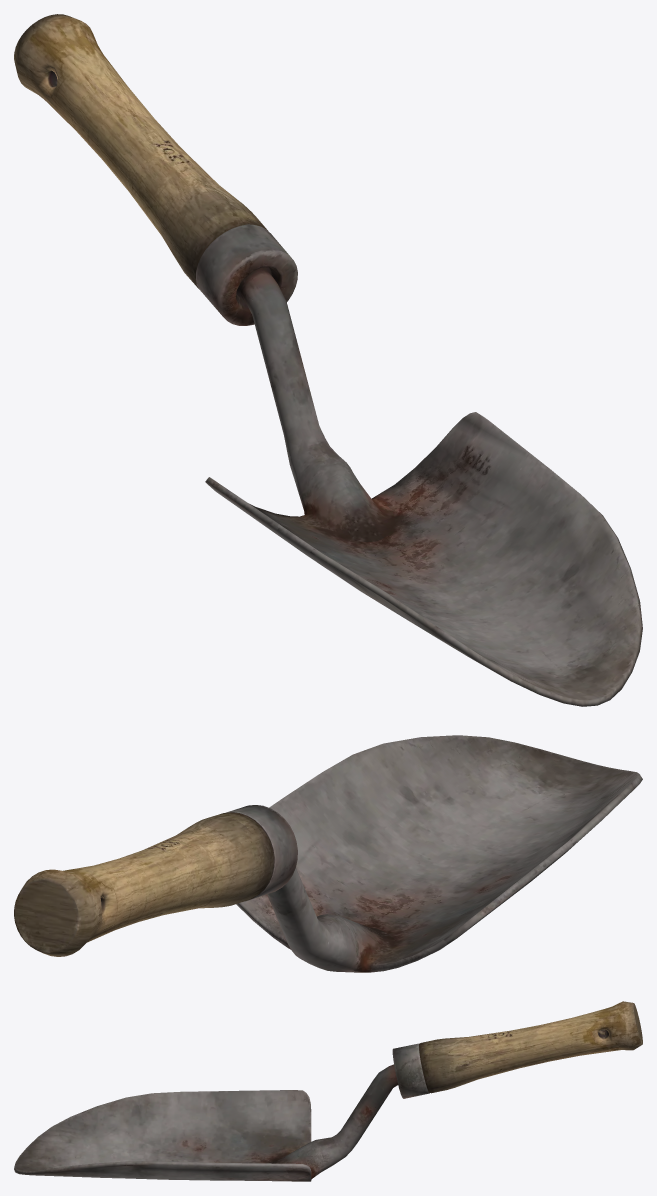
Rendered from ph-trowel_01.glb.
3 views of the same model, one above another, from view 1: azimuth 30°, elevation 25°; view 2: azimuth 150°, elevation 25°; view 3: azimuth 270°, elevation 25° (orthographic). The views are drawn at different scales.
Visible parts, largest first — view 1: trowel_01; view 2: trowel_01; view 3: trowel_01.
Part boxes in pixels (bbox=[...]): trowel_01: bbox=[14, 14, 642, 706]; trowel_01: bbox=[14, 735, 642, 972]; trowel_01: bbox=[14, 1001, 642, 1181].
Size of the model in its own units: 0.0991 by 0.1026 by 0.3468.
1 material, 1 textured.
